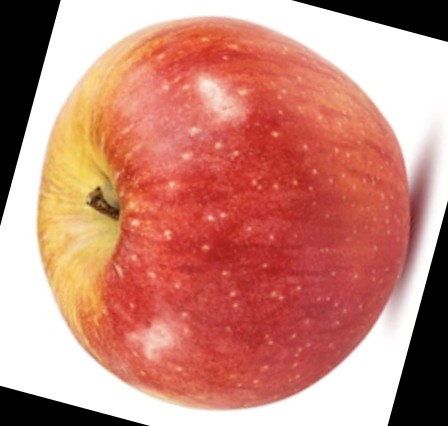fresh_apple: (34, 17, 416, 409)
